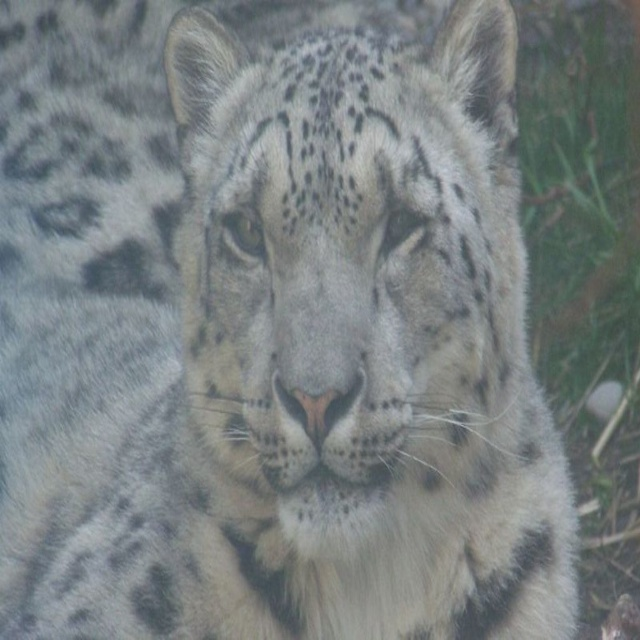Leopard: (0, 0, 581, 639)
